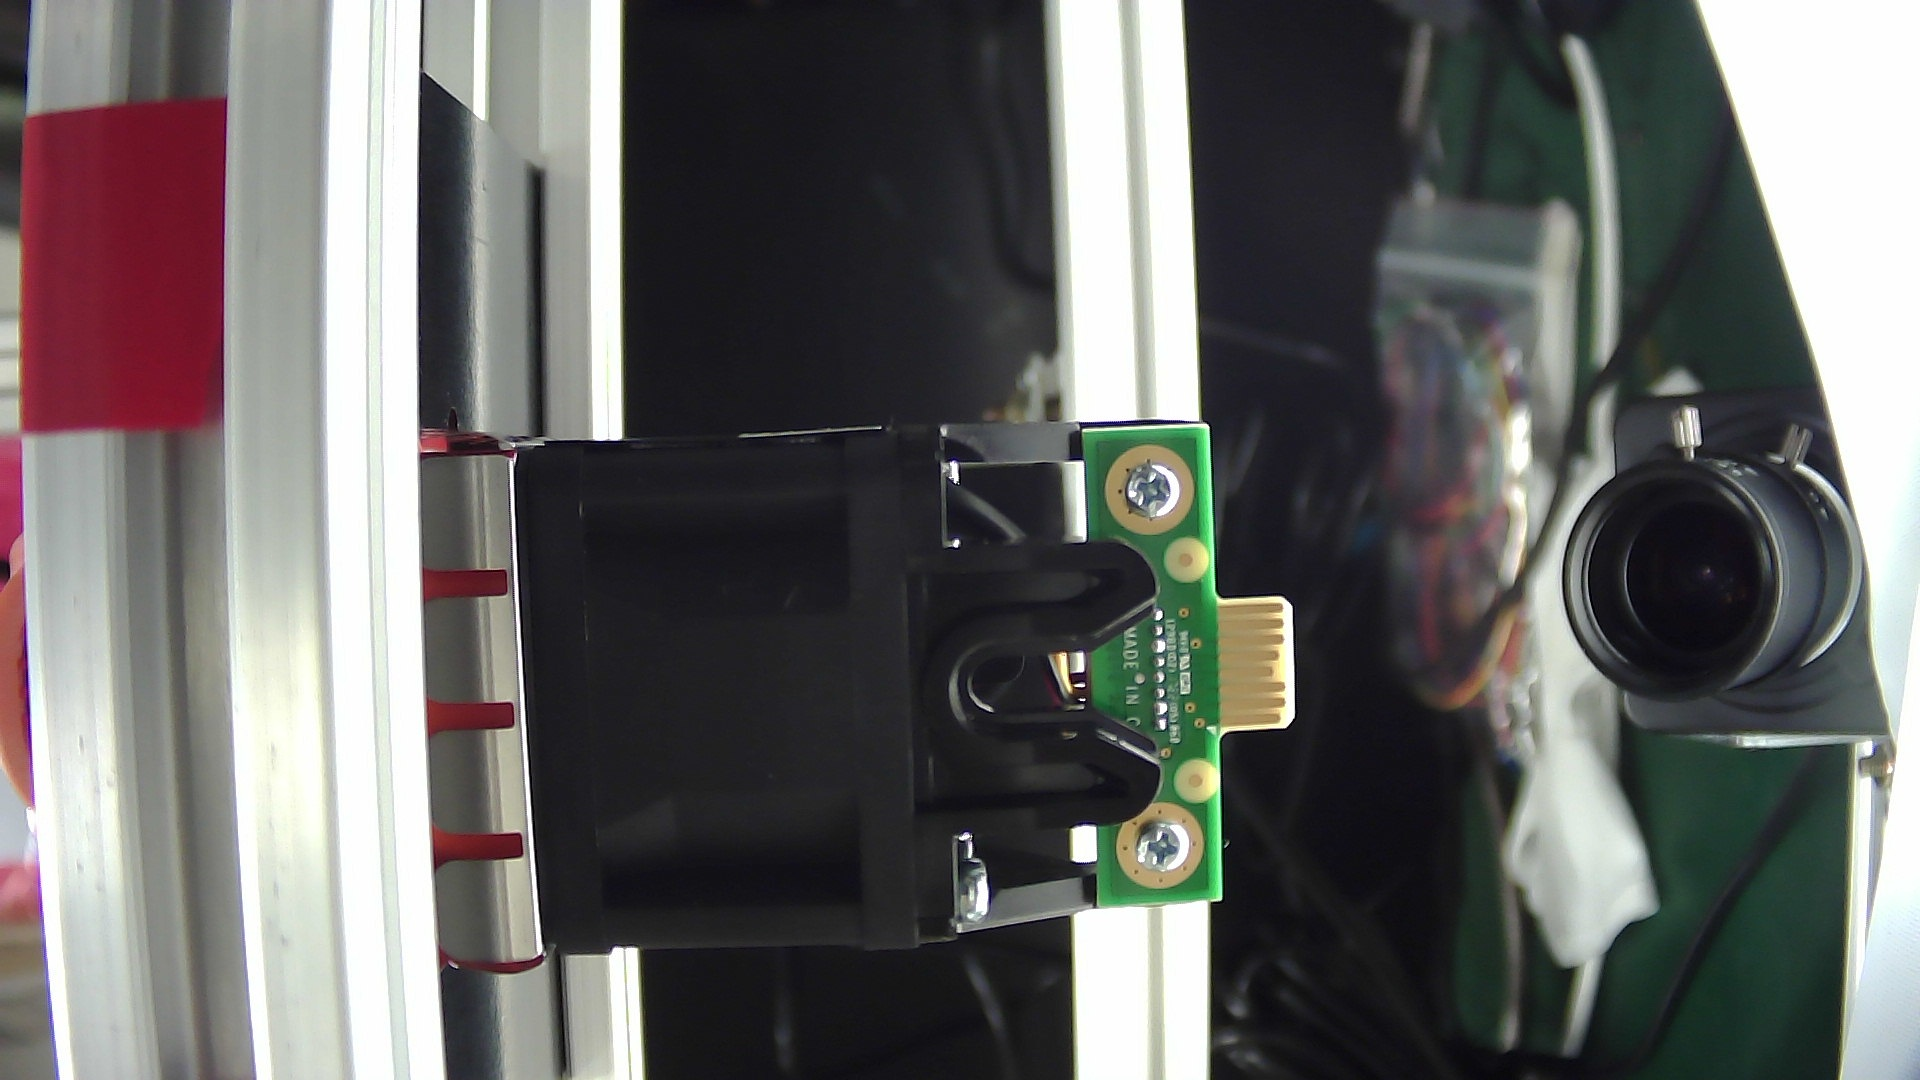5_0: (356, 371, 1329, 1014)
